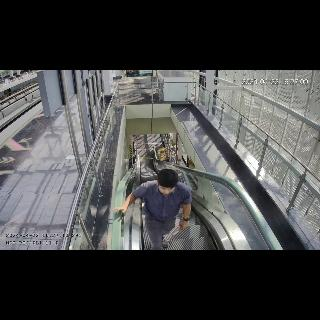normal: (111, 166, 193, 250)
